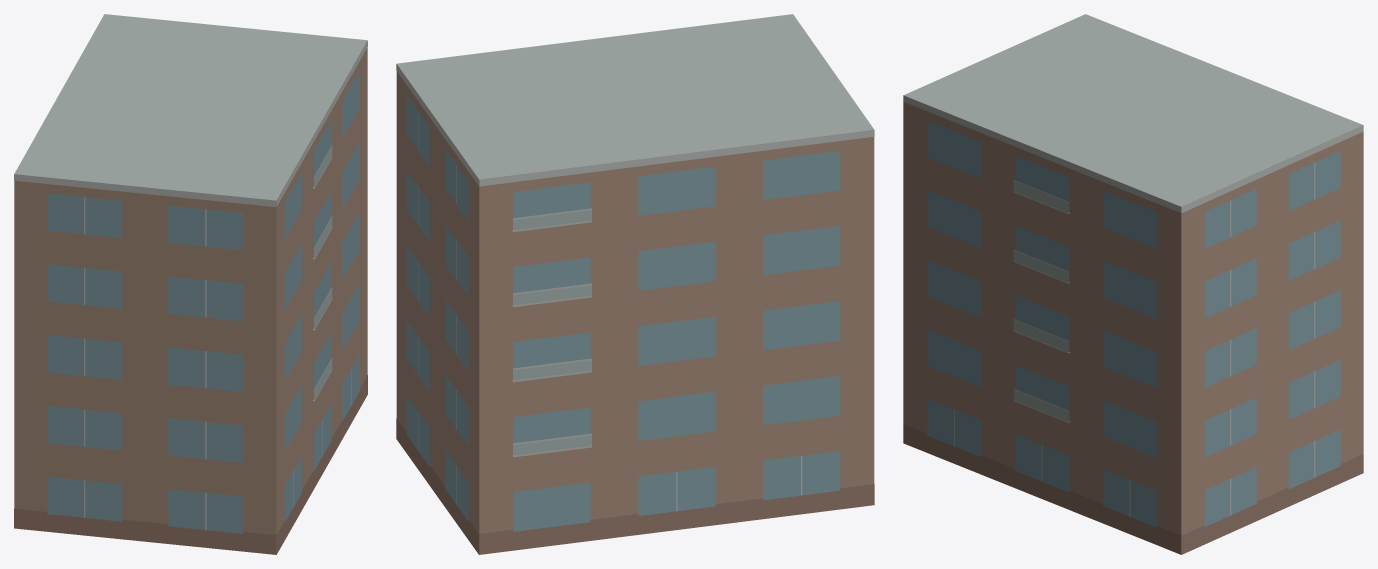
Rendered from survey-upis-32932489.glb.
The picture shows the model from 3 angles, left to right: view 1: azimuth 30°, elevation 25°; view 2: azimuth 150°, elevation 25°; view 3: azimuth 270°, elevation 25°; orthographic projection. The views are drawn at different scales.
Visible parts, largest first — view 1: survey-upis-32932489.tmp; view 2: survey-upis-32932489.tmp; view 3: survey-upis-32932489.tmp.
Boxes of the visible parts, box(x1,y1,x2,y2) form: survey-upis-32932489.tmp: box(14, 14, 367, 554); survey-upis-32932489.tmp: box(396, 14, 874, 554); survey-upis-32932489.tmp: box(903, 14, 1363, 554).
Bounding box in the file's own units: 15.7 × 13.2 × 15.83.
